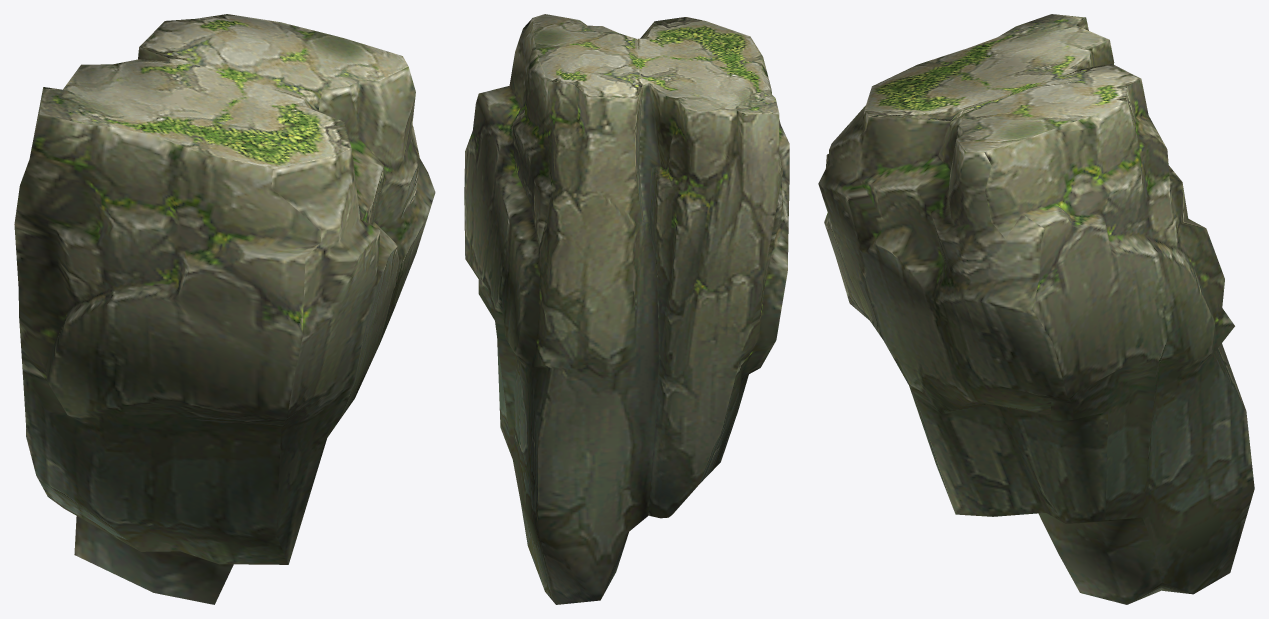
File: 4004_Item_shitou_11.FBX
3 views of the same model, side by side, from view 1: azimuth 30°, elevation 25°; view 2: azimuth 150°, elevation 25°; view 3: azimuth 270°, elevation 25° (orthographic). The views are drawn at different scales.
Visible parts, largest first — view 1: 4004_Item_shitou_11; view 2: 4004_Item_shitou_11; view 3: 4004_Item_shitou_11.
Boxes of the visible parts, <box> form: 4004_Item_shitou_11: <box>14,14,435,604</box>; 4004_Item_shitou_11: <box>464,14,789,604</box>; 4004_Item_shitou_11: <box>818,14,1254,604</box>.
Bounding box in the file's own units: 796 × 1127 × 863.
